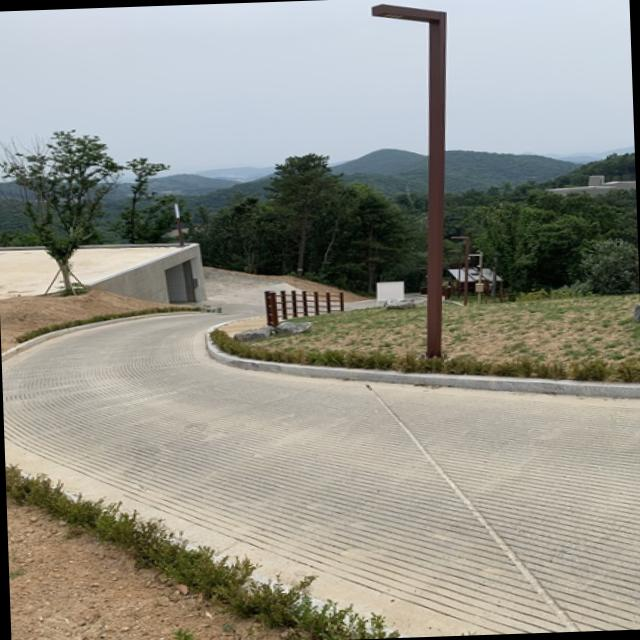cement: (1, 244, 640, 637), (0, 248, 53, 295)
grass: (5, 463, 401, 640), (215, 295, 640, 381)
red-sand: (6, 498, 284, 640), (0, 290, 168, 350)
rocks: (233, 320, 311, 341), (378, 300, 413, 308), (633, 304, 640, 321)
